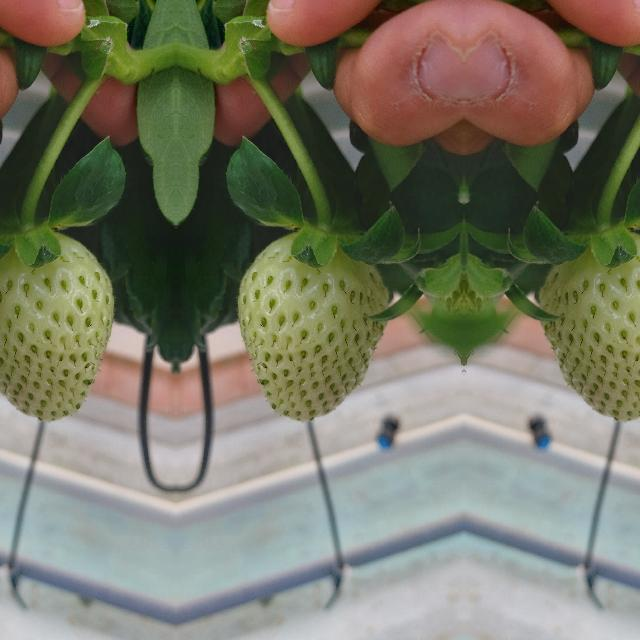Health_25: (235, 230, 388, 422), (0, 229, 114, 422), (537, 229, 640, 422)
